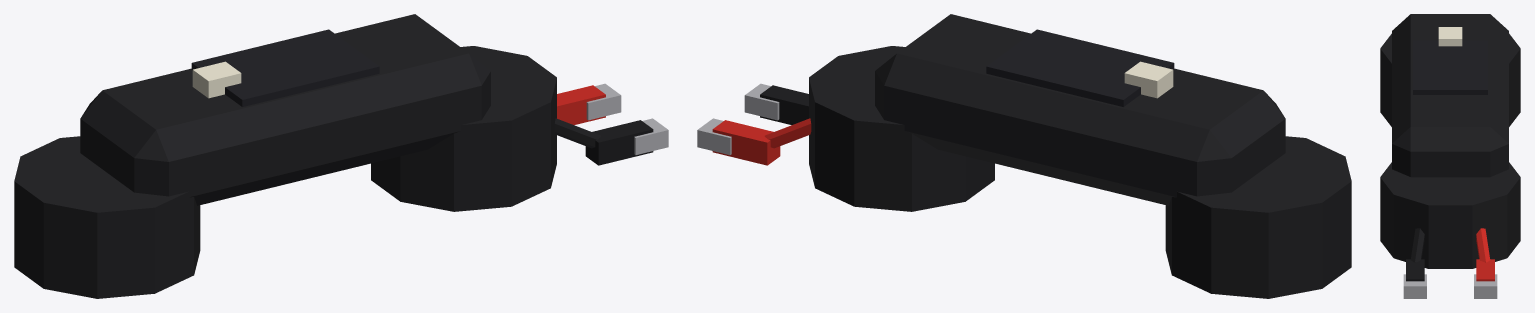
File: tool.test-set.glb
The picture shows the model from 3 angles, left to right: view 1: azimuth 30°, elevation 25°; view 2: azimuth 150°, elevation 25°; view 3: azimuth 270°, elevation 25°; orthographic projection. The views are drawn at different scales.
Visible parts, largest first — view 1: handle, ear, mouth, keypad, clip1, switch, clip0, jaw0, jaw1, lead1; view 2: handle, ear, mouth, keypad, clip0, switch, clip1, jaw1, jaw0, lead0; view 3: handle, mouth, keypad, ear, switch, jaw0, jaw1, clip0, clip1, lead0, lead1.
Part boxes in pixels (bbox=[...]): handle: bbox=[80, 14, 490, 205]; ear: bbox=[14, 136, 200, 298]; mouth: bbox=[371, 46, 556, 211]; keypad: bbox=[191, 29, 379, 106]; clip1: bbox=[585, 120, 653, 165]; switch: bbox=[192, 61, 241, 98]; clip0: bbox=[557, 85, 605, 124]; jaw0: bbox=[586, 83, 621, 120]; jaw1: bbox=[634, 118, 668, 154]; lead1: bbox=[554, 118, 601, 148]; handle: bbox=[875, 14, 1285, 205]; ear: bbox=[1165, 136, 1351, 298]; mouth: bbox=[809, 46, 994, 211]; keypad: bbox=[986, 29, 1174, 106]; clip0: bbox=[712, 120, 780, 165]; switch: bbox=[1124, 61, 1173, 98]; clip1: bbox=[760, 85, 808, 124]; jaw1: bbox=[744, 83, 779, 120]; jaw0: bbox=[697, 118, 731, 154]; lead0: bbox=[764, 118, 811, 148]; handle: bbox=[1392, 14, 1508, 177]; mouth: bbox=[1380, 162, 1520, 268]; keypad: bbox=[1413, 40, 1487, 94]; ear: bbox=[1380, 33, 1520, 126]; switch: bbox=[1438, 27, 1462, 46]; jaw0: bbox=[1474, 274, 1497, 298]; jaw1: bbox=[1403, 274, 1426, 298]; clip0: bbox=[1476, 259, 1494, 281]; clip1: bbox=[1406, 259, 1424, 281]; lead0: bbox=[1476, 228, 1490, 262]; lead1: bbox=[1410, 228, 1424, 262].
Size of the model in its own units: 0.2215 by 0.058 by 0.06.
